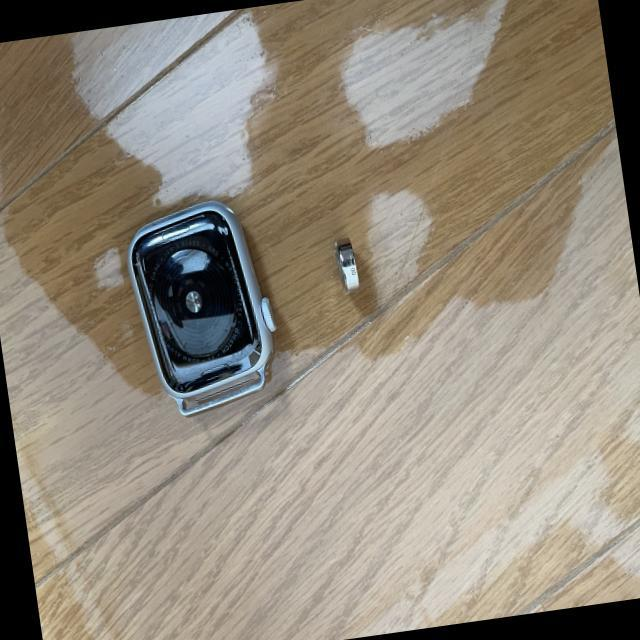COIN: (332, 235, 361, 292)
